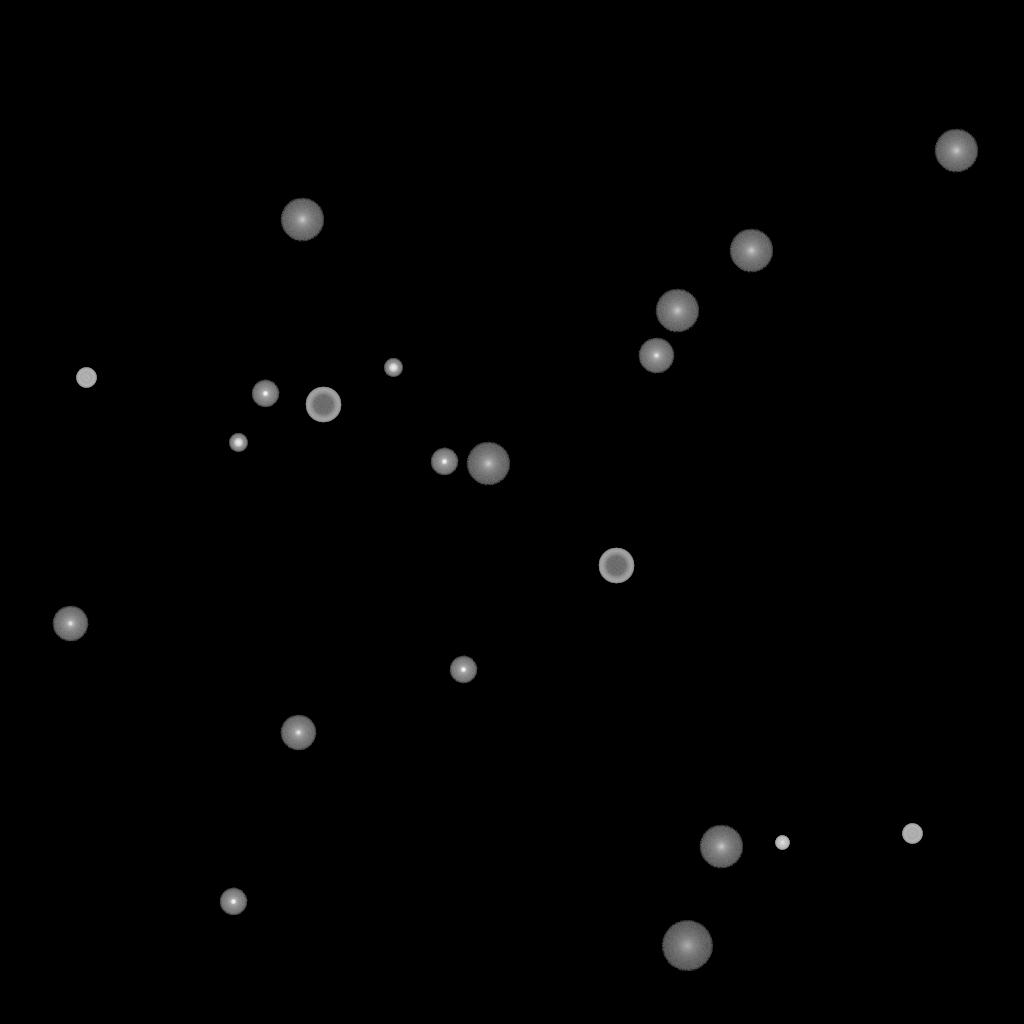depth:-10: (251, 380, 279, 408), (449, 656, 477, 684), (430, 448, 458, 476), (219, 888, 247, 916)
depth:-20: (229, 434, 247, 452), (384, 359, 402, 377)
depth:-30: (775, 836, 789, 850)
depth:-40: (76, 368, 96, 388), (902, 824, 922, 844)
depth:-60: (305, 387, 341, 423), (598, 548, 634, 584)
depth:0: (280, 715, 316, 751), (638, 338, 674, 374), (52, 606, 88, 642)
depth:10: (655, 289, 699, 333), (934, 129, 978, 173), (280, 198, 324, 242), (699, 825, 743, 869), (729, 229, 773, 273), (466, 442, 510, 486)
depth:20: (661, 921, 713, 971)
